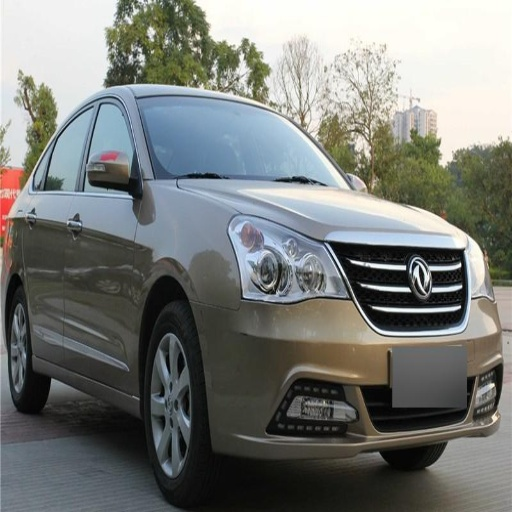front_bumper: (199, 231, 509, 456)
front_right_door: (68, 95, 144, 385)
front_right_light: (228, 213, 347, 303)
